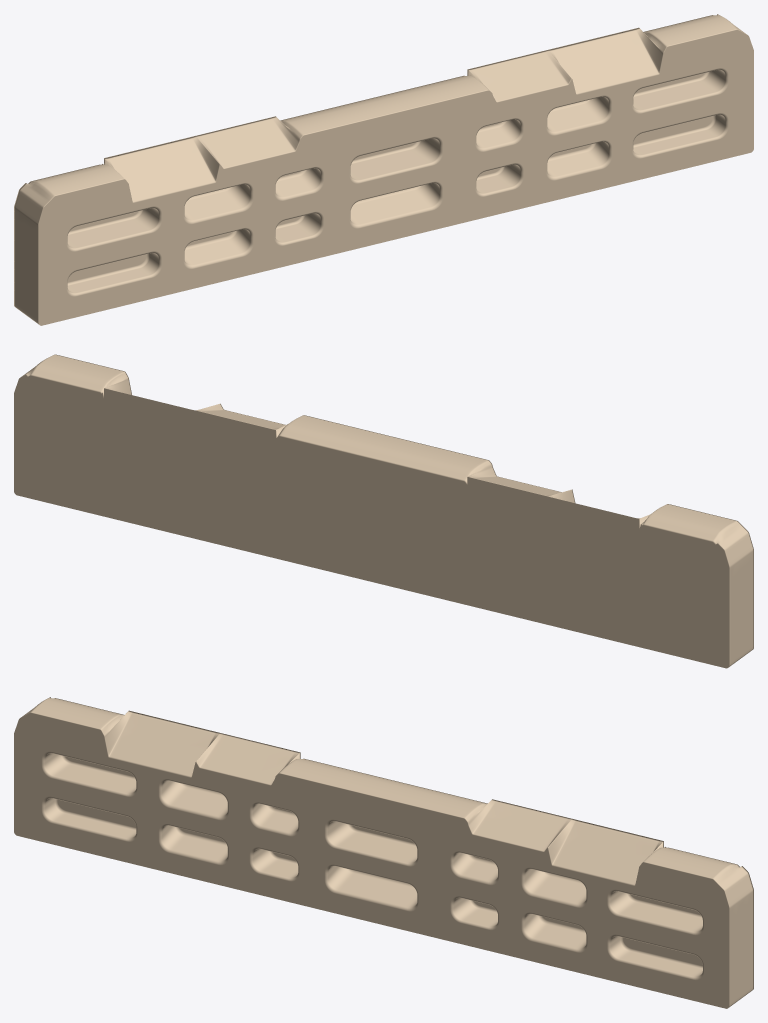
File: zlagboard-evo.glb
3 views of the same model, one above another, from view 1: azimuth 30°, elevation 25°; view 2: azimuth 150°, elevation 25°; view 3: azimuth 330°, elevation 25° (orthographic).
Visible parts, largest first — view 1: body--board, hold--right-sloper-32, hold--left-sloper-32, hold--center-sloping-jug, hold--left-sloper-20, hold--right-sloper-20, hold--row-2-column-4, hold--row-1-column-4, hold--row-1-column-7, hold--row-1-column-1, hold--row-1-column-2, hold--row-2-column-2 (+10 smaller); view 2: body--board, hold--center-sloping-jug, hold--left-jug, hold--right-jug, hold--left-sloper-20, hold--right-sloper-20; view 3: body--board, hold--left-sloper-32, hold--right-sloper-32, hold--center-sloping-jug, hold--right-sloper-20, hold--left-sloper-20, hold--row-2-column-4, hold--row-1-column-4, hold--row-1-column-7, hold--row-1-column-1, hold--row-1-column-2, hold--row-2-column-2 (+10 smaller).
Boxes of the visible parts, x1,y1,x2,y2 form: body--board: (14, 14, 753, 325); hold--right-sloper-32: (548, 27, 663, 94); hold--left-sloper-32: (104, 136, 220, 202); hold--center-sloping-jug: (281, 69, 489, 139); hold--left-sloper-20: (196, 116, 300, 169); hold--right-sloper-20: (468, 50, 571, 102); hold--row-2-column-4: (349, 183, 443, 228); hold--row-1-column-4: (349, 139, 443, 183); hold--row-1-column-7: (632, 70, 728, 113); hold--row-1-column-1: (66, 208, 162, 251); hold--row-1-column-2: (183, 184, 253, 224); hold--row-2-column-2: (183, 229, 253, 269); body--board: (14, 368, 753, 668); hold--center-sloping-jug: (275, 415, 491, 479); hold--left-jug: (644, 504, 739, 540); hold--right-jug: (31, 354, 126, 391); hold--left-sloper-20: (468, 465, 561, 496); hold--right-sloper-20: (196, 403, 285, 429); body--board: (14, 697, 753, 1008); hold--left-sloper-32: (104, 710, 219, 777); hold--right-sloper-32: (547, 819, 663, 885); hold--center-sloping-jug: (278, 752, 486, 822); hold--right-sloper-20: (467, 799, 571, 852); hold--left-sloper-20: (196, 733, 299, 785); hold--row-2-column-4: (324, 866, 418, 911); hold--row-1-column-4: (324, 822, 418, 866); hold--row-1-column-7: (607, 892, 704, 935); hold--row-1-column-1: (41, 754, 137, 797); hold--row-1-column-2: (158, 781, 228, 820); hold--row-2-column-2: (158, 825, 228, 865).
Bounding box in the file's own units: 0.7 × 0.12 × 0.042.
